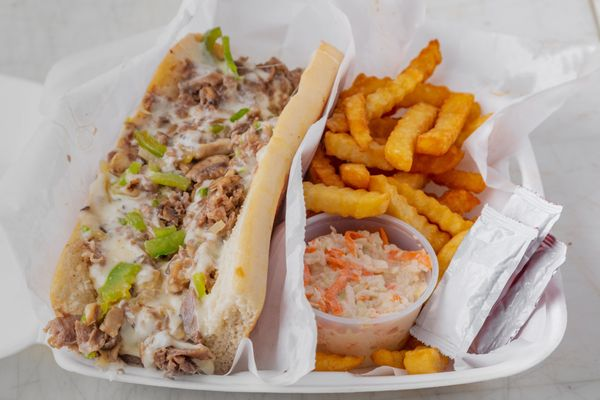sushi: (303, 212, 439, 358)
